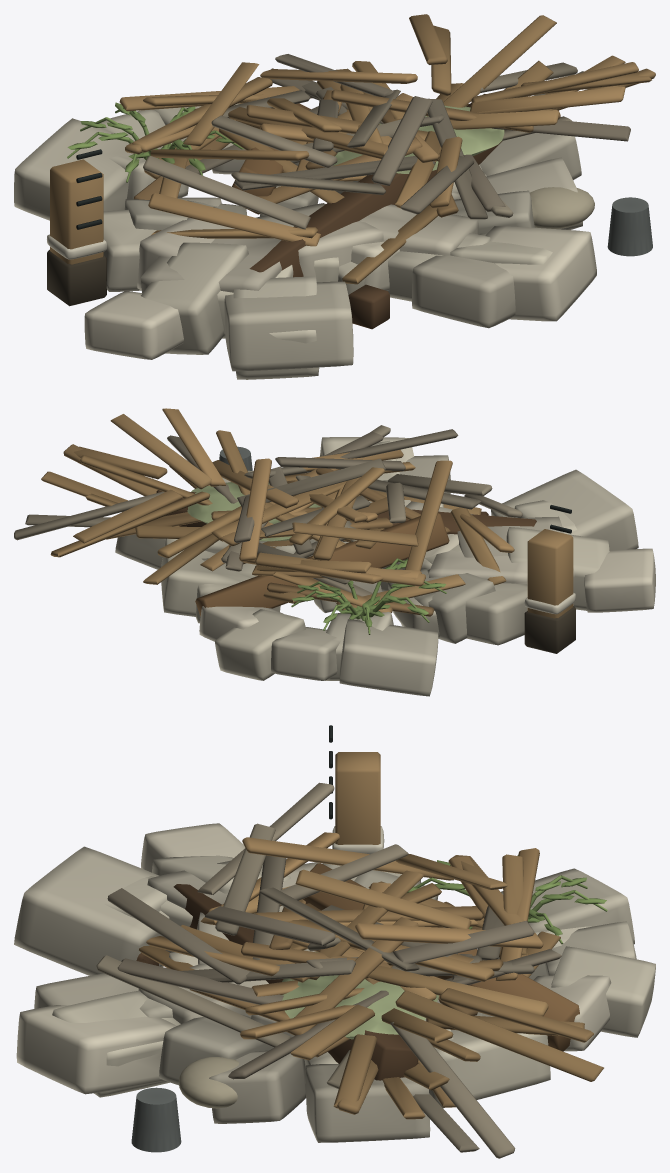
The model's file is gallery_collapse_b.glb.
3 views of the same model, one above another, from view 1: azimuth 30°, elevation 25°; view 2: azimuth 150°, elevation 25°; view 3: azimuth 270°, elevation 25° (orthographic). The views are drawn at different scales.
Visible parts, largest first — view 1: Surface; view 2: Surface; view 3: Surface.
Part boxes in pixels (x1,y1,x2,y2): Surface: (14, 14, 655, 379); Surface: (14, 408, 655, 696); Surface: (14, 725, 655, 1158).
Size of the model in its own units: 7.9 by 1.96 by 6.37.
